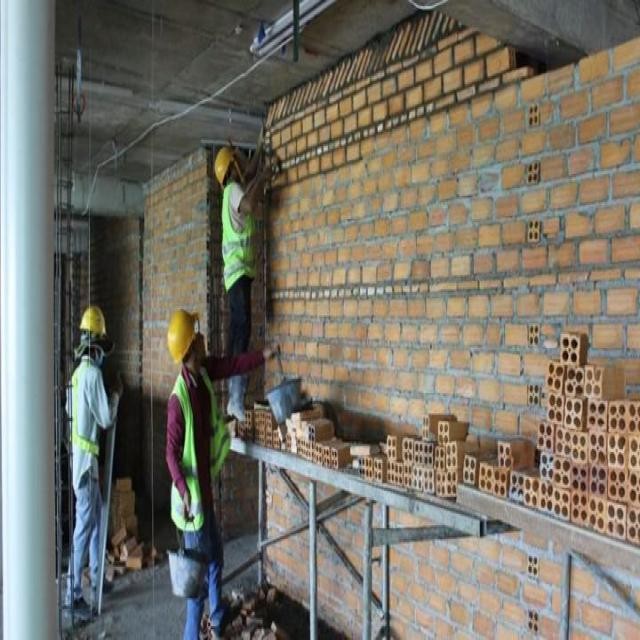head_helmet: (164, 308, 201, 357), (211, 143, 238, 182), (79, 304, 109, 330)
person: (172, 312, 222, 631), (212, 146, 265, 426), (66, 305, 106, 612)
vest: (170, 382, 227, 530), (218, 191, 256, 287), (70, 365, 100, 463)
